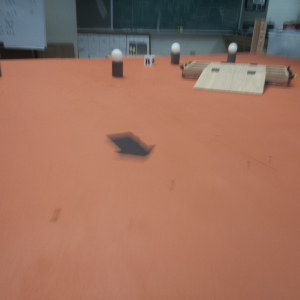obstacle: (108, 47, 128, 79), (168, 41, 182, 66), (227, 40, 240, 60)
side: (267, 65, 296, 88), (181, 60, 204, 78)
slope: (202, 67, 264, 96)
